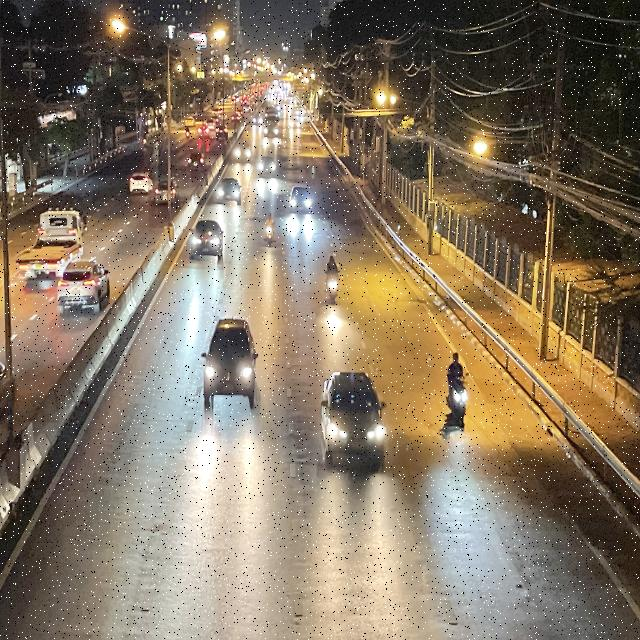bike: (444, 348, 470, 428), (324, 253, 341, 306), (263, 210, 277, 248)
car: (318, 368, 388, 473), (200, 315, 259, 411), (188, 219, 224, 260)
